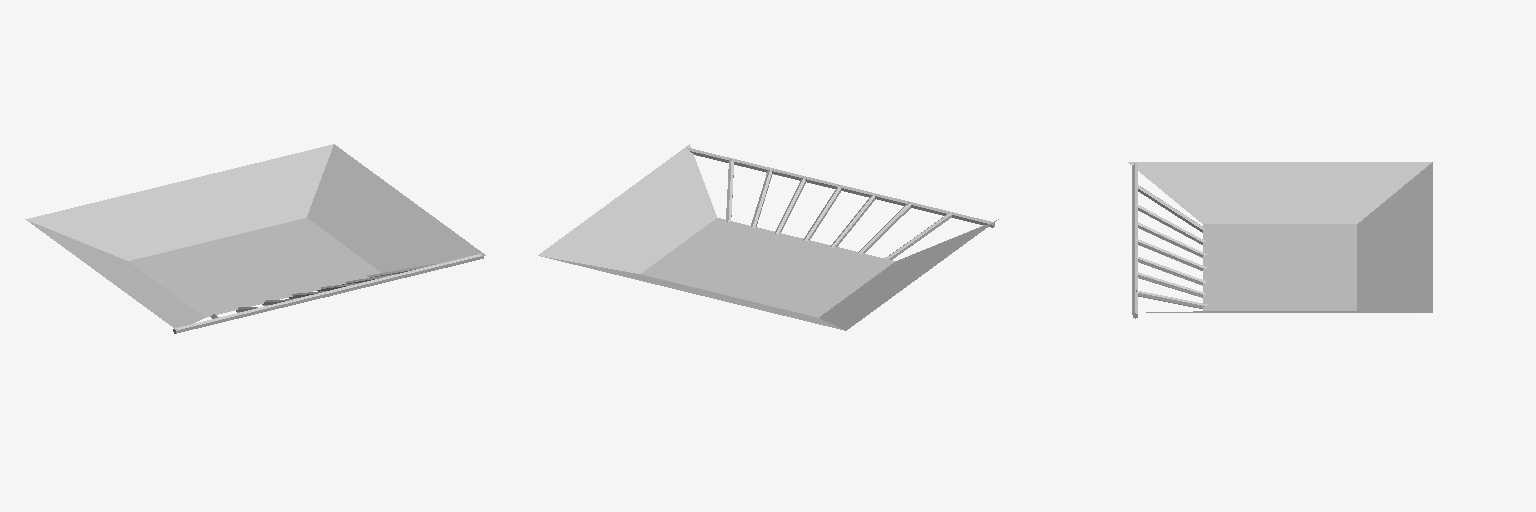
The model's file is RoomObject.obj.
3 renders of one model, left to right at view 1: azimuth 30°, elevation 25°; view 2: azimuth 150°, elevation 25°; view 3: azimuth 270°, elevation 25°, orthographic.
Visible parts, largest first — view 1: Cube_Cube.001, Cylinder; view 2: Cube_Cube.001, Cylinder; view 3: Cube_Cube.001, Cylinder.
Boxes of the visible parts, <box> form: Cube_Cube.001: <box>25,144,485,330</box>; Cylinder: <box>173,254,483,333</box>; Cube_Cube.001: <box>538,144,998,330</box>; Cylinder: <box>687,147,994,227</box>; Cube_Cube.001: <box>1128,162,1432,312</box>; Cylinder: <box>1132,163,1137,318</box>.
Size of the model in its own units: 28.1 by 3.21 by 24.03.